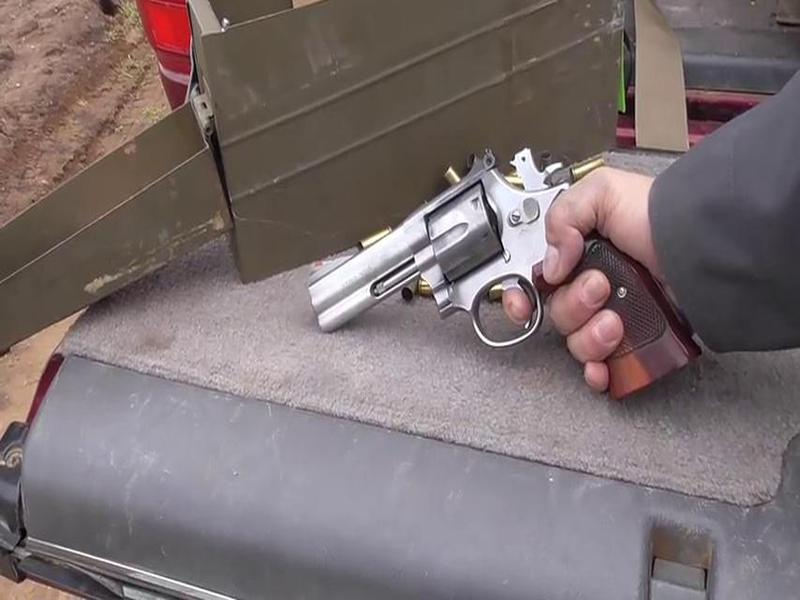Revolver: (301, 151, 637, 405)
